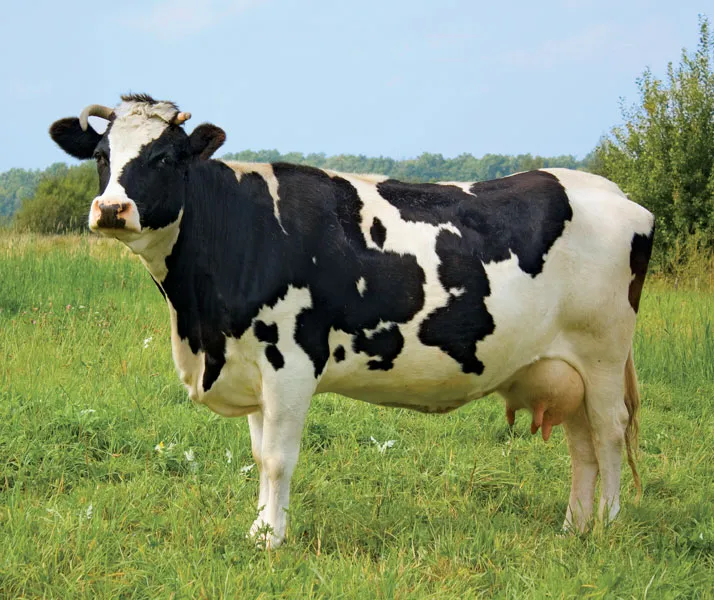cow: (39, 91, 659, 560)
